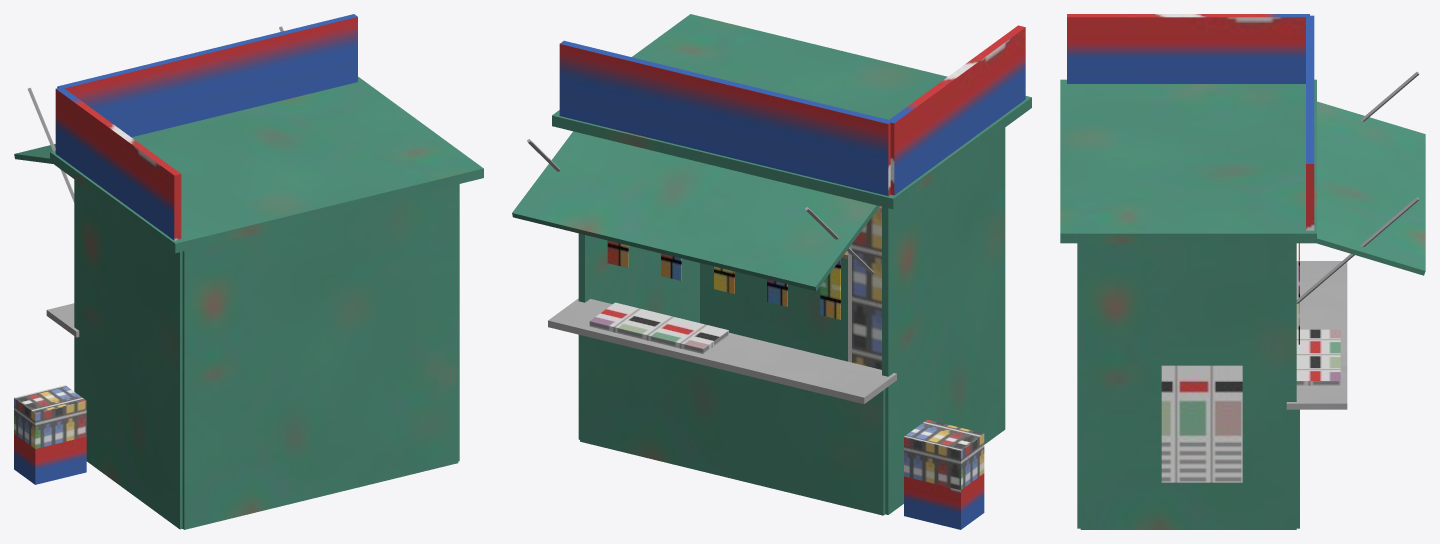
The model's file is kiosk.glb.
3 renders of one model, left to right at view 1: azimuth 30°, elevation 25°; view 2: azimuth 150°, elevation 25°; view 3: azimuth 270°, elevation 25°, orthographic. The views are drawn at different scales.
Visible parts, largest first — view 1: kiosk; view 2: kiosk; view 3: kiosk.
Boxes of the visible parts, x1=… form: kiosk: x1=14, y1=14, x2=483, y2=529; kiosk: x1=512, y1=14, x2=1031, y2=529; kiosk: x1=1060, y1=14, x2=1425, y2=529.
Size of the model in its own units: 3.16 by 3.03 by 2.71.
Materials: 1 (1 with a texture image).
